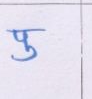u_matra: (11, 46, 39, 62)
